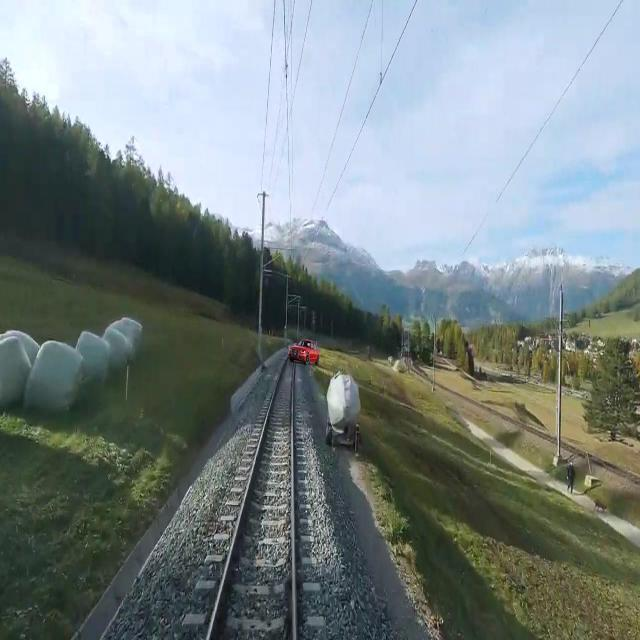danger: (317, 362, 366, 458), (285, 332, 325, 368)
rail: (205, 359, 288, 640), (291, 363, 296, 640)
